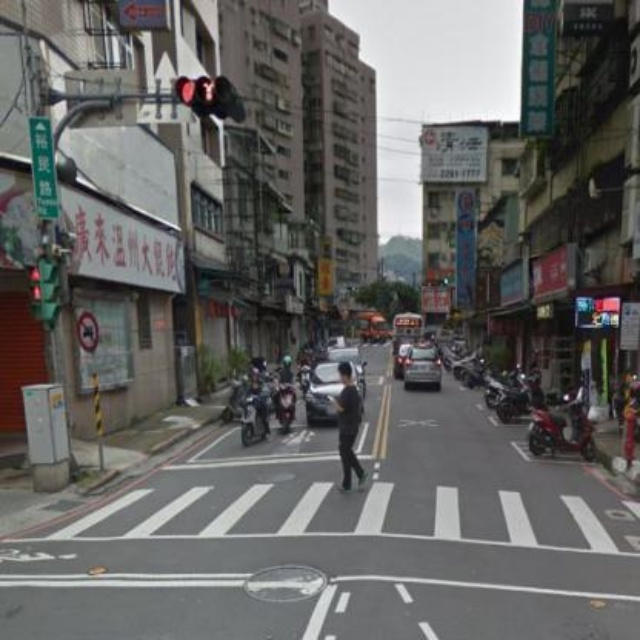Đèn đỏ: (173, 76, 235, 112)
